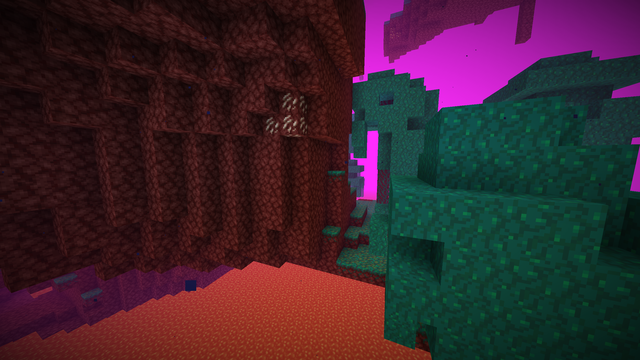quartz: (265, 91, 306, 138)
